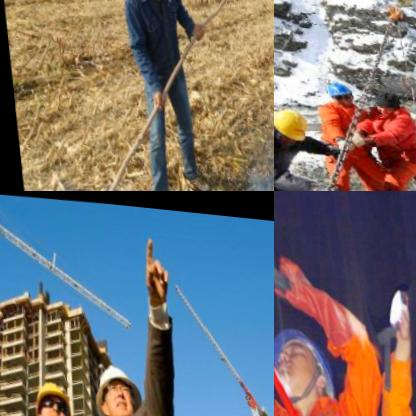helmet: (274, 317, 329, 416), (86, 354, 142, 416), (26, 373, 70, 416), (274, 99, 303, 143), (318, 75, 353, 104)
